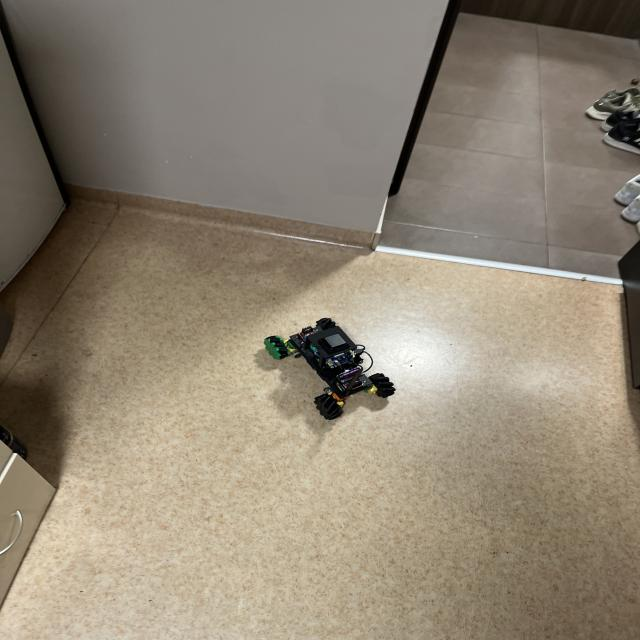robot: (264, 318, 395, 420)
